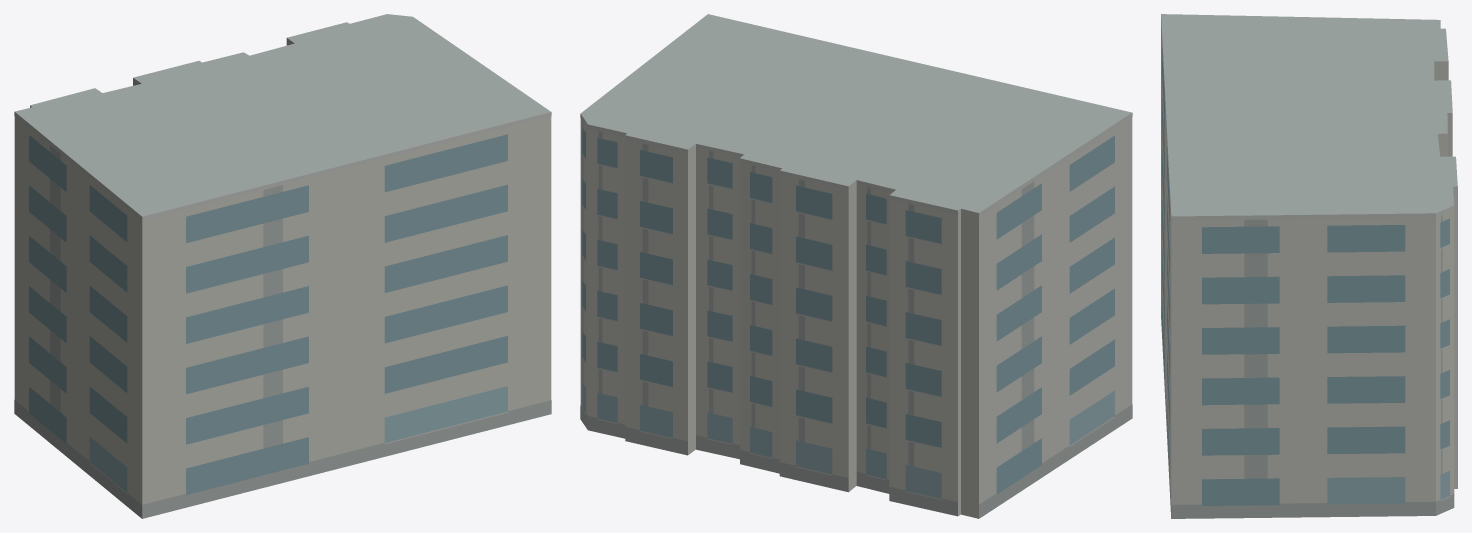
The model's file is survey-upis-32840846.glb.
The picture shows the model from 3 angles, left to right: view 1: azimuth 30°, elevation 25°; view 2: azimuth 150°, elevation 25°; view 3: azimuth 270°, elevation 25°; orthographic projection.
Parts seen in each view (by area): view 1: survey-upis-32840846.tmp; view 2: survey-upis-32840846.tmp; view 3: survey-upis-32840846.tmp.
Part boxes in pixels (bbox=[...]): survey-upis-32840846.tmp: bbox=[14, 14, 551, 518]; survey-upis-32840846.tmp: bbox=[580, 14, 1132, 518]; survey-upis-32840846.tmp: bbox=[1161, 14, 1457, 518].
Bounding box in the file's own units: 24.83 × 17.3 × 15.39.
